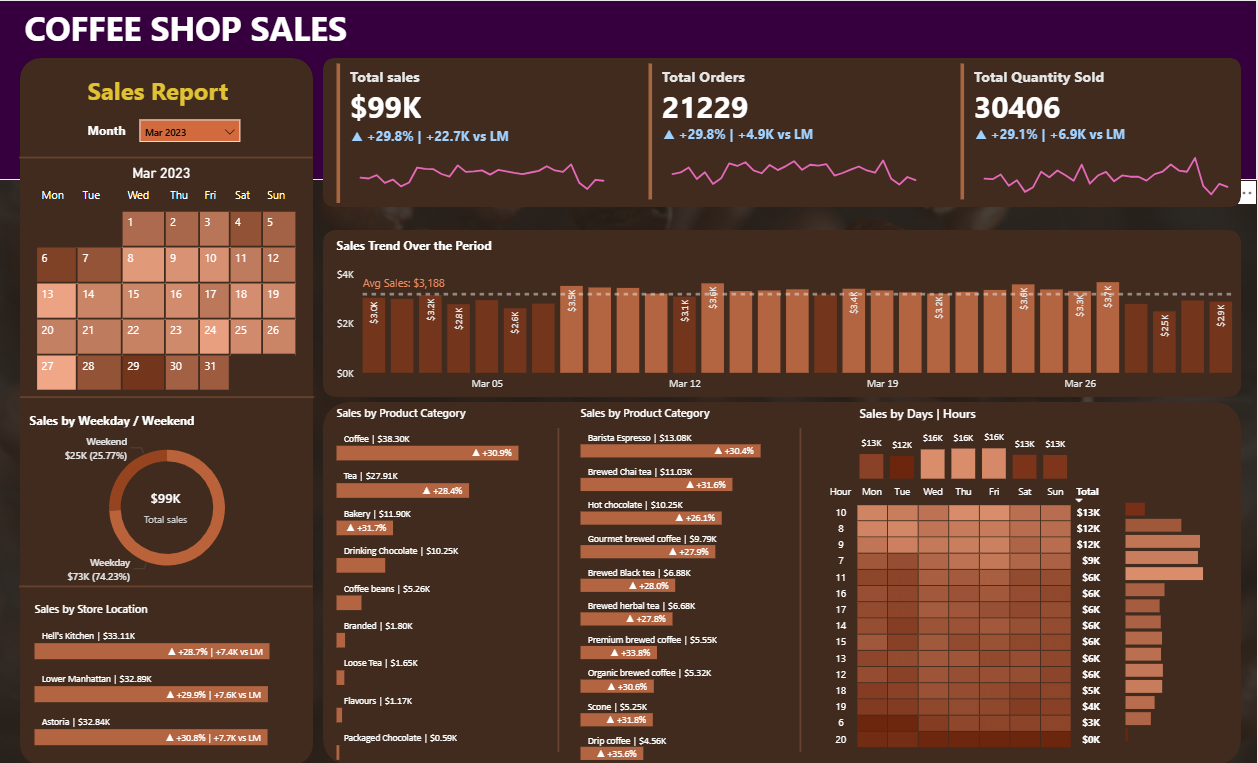

The page's visual inventory and layout, read from the dashboard file:
{"tool":"powerbi","page":{"name":"Page 1","canvas":[1400,850],"ordinal":0},"visuals":[{"type":"shape","box":[362.2,446.7,1020,403.3],"z":0},{"type":"shape","box":[0,0,1400,200],"z":1000},{"type":"shape","box":[25.6,64.4,325.6,785.6],"z":2000},{"type":"shape","box":[362.2,64.4,1020,165.6],"z":3000},{"type":"textbox","box":[25.6,0,383.3,64.4],"z":4000},{"type":"cardVisual","fields":{"Data":["Transactions.Total sales"]},"box":[372.5,65,300,165],"z":4000,"group":"g1"},{"type":"cardVisual","fields":{"Data":["Transactions.Total Orders"]},"box":[718.4,65,300,161.2],"z":4000,"group":"g2"},{"type":"cardVisual","fields":{"Data":["Transactions.Total Quantity Sold"]},"box":[1065,65,300,161.2],"z":4000,"group":"g3"},{"type":"slicer","fields":{"Values":["Date table.Month year"]},"box":[153.1,127.7,121.5,37.7],"z":5000},{"type":"group","id":"g1","title":"Group 1","box":[372.5,65,316.9,165],"z":6000},{"type":"lineChart","fields":{"Category":["Date table.Date.Variation.Date Hierarchy.Year","Date table.Date.Variation.Date Hierarchy.Quarter","Date table.Date.Variation.Date Hierarchy.Month","Date table.Date.Variation.Date Hierarchy.Day"],"Y":["Transactions.Total Orders"]},"box":[735.3,138.3,300,84.3],"z":6000,"group":"g2"},{"type":"lineChart","fields":{"Category":["Date table.Date.Variation.Date Hierarchy.Year","Date table.Date.Variation.Date Hierarchy.Quarter","Date table.Date.Variation.Date Hierarchy.Month","Date table.Date.Variation.Date Hierarchy.Day"],"Y":["Transactions.Total Quantity Sold"]},"box":[1081.9,138.3,300,84.3],"z":6000,"group":"g3"},{"type":"lineChart","fields":{"Category":["Date table.Date.Variation.Date Hierarchy.Year","Date table.Date.Variation.Date Hierarchy.Quarter","Date table.Date.Variation.Date Hierarchy.Month","Date table.Date.Variation.Date Hierarchy.Day"],"Y":["Transactions.Total sales"]},"box":[389.4,140,300,86.2],"z":6000,"group":"g1"},{"type":"group","id":"g2","title":"Group 1","box":[718.4,65,317.5,161.2],"z":7000},{"type":"group","id":"g3","title":"Group 1","box":[1065,65,317.5,161.2],"z":8000},{"type":"pivotTable","fields":{"Rows":["Date table.Week Number"],"Columns":["Date table.Day Name"],"Values":["Min(Date table.Day Number)"]},"box":[35.4,200,303.8,240],"z":9000},{"type":"cardVisual","fields":{"Data":["Min(Date table.Month year)"]},"box":[133.8,157.7,110.8,46.2],"z":10000},{"type":"shape","box":[25.7,425.7,327.1,31.4],"z":11000},{"type":"shape","box":[24.6,158.5,326.2,32.3],"z":12000},{"type":"donutChart","title":"Sales by Weekday / Weekend","fields":{"Category":["Date table.Weekday / Weekend"],"Y":["Transactions.Total sales"]},"box":[31.1,457.8,315.6,195.6],"z":13000},{"type":"card","fields":{"Values":["Transactions.Total sales"]},"box":[133,538,108,50],"z":14000},{"type":"shape","box":[24,636,326,32],"z":15000},{"type":"clusteredBarChart","title":"Sales by Store Location","fields":{"Category":["Transactions.store_location"],"Y":["Transactions.Placeholder","Transactions.Total sales"]},"box":[36.7,667.8,297.8,167.8],"z":16000},{"type":"shape","box":[362.2,255.6,1020,185.6],"z":17000},{"type":"columnChart","title":"Sales Trend Over the Period","fields":{"Category":["Transactions.transaction_date"],"Y":["Transactions.Total sales"]},"box":[372.2,263.3,1011.1,178.9],"z":18000},{"type":"clusteredBarChart","title":"Sales by Product Category","fields":{"Y":["Transactions.Placeholder","Transactions.Total sales"],"Category":["Transactions.product_category"]},"box":[372.5,450,235,400],"z":19000},{"type":"shape","box":[608,476,32,360],"z":20000},{"type":"clusteredBarChart","title":"Sales by Product Category","fields":{"Y":["Transactions.Placeholder","Transactions.Total sales"],"Category":["Transactions.product_type"]},"box":[643,450,235,400],"z":21000},{"type":"shape","box":[877,476,32,360],"z":22000},{"type":"pivotTable","fields":{"Rows":["Transactions.Hour"],"Columns":["Date table.Day Name"],"Values":["Transactions.Total sales"]},"box":[914,533,335,309],"z":23000},{"type":"barChart","fields":{"Category":["Transactions.Hour"],"Y":["Transactions.Total sales"]},"box":[1249,546,113,283],"z":24000},{"type":"columnChart","title":"Sales by Days | Hours","fields":{"Y":["Transactions.Total sales"],"Category":["Date table.Day Name"]},"box":[952.9,450,241.4,87.9],"z":25000},{"type":"textbox","box":[95.4,131.5,72.3,26.9],"z":26000},{"type":"textbox","box":[95.6,76.7,178.9,45.6],"z":27000}]}

Visuals, with their boxes in screenshot pixels (x1, y1, x2, y2), scaled from the page's 1400x850 canvas onto the 1258x763 screenshot:
shape: {"x1": 325, "y1": 401, "x2": 1242, "y2": 762}
shape: {"x1": 0, "y1": 0, "x2": 1257, "y2": 180}
shape: {"x1": 23, "y1": 58, "x2": 316, "y2": 762}
shape: {"x1": 325, "y1": 58, "x2": 1242, "y2": 206}
textbox: {"x1": 23, "y1": 0, "x2": 367, "y2": 58}
cardVisual - Transactions.Total sales: {"x1": 335, "y1": 58, "x2": 604, "y2": 206}
cardVisual - Transactions.Total Orders: {"x1": 646, "y1": 58, "x2": 915, "y2": 203}
cardVisual - Transactions.Total Quantity Sold: {"x1": 957, "y1": 58, "x2": 1227, "y2": 203}
slicer - Date table.Month year: {"x1": 138, "y1": 115, "x2": 247, "y2": 148}
"Group 1" group: {"x1": 335, "y1": 58, "x2": 619, "y2": 206}
lineChart - Date table.Date.Variation.Date Hierarchy.Year x Date table.Date.Variation.Date Hierarchy.Quarter: {"x1": 661, "y1": 124, "x2": 930, "y2": 200}
lineChart - Date table.Date.Variation.Date Hierarchy.Year x Date table.Date.Variation.Date Hierarchy.Quarter: {"x1": 972, "y1": 124, "x2": 1242, "y2": 200}
lineChart - Date table.Date.Variation.Date Hierarchy.Year x Date table.Date.Variation.Date Hierarchy.Quarter: {"x1": 350, "y1": 126, "x2": 619, "y2": 203}
"Group 1" group: {"x1": 646, "y1": 58, "x2": 931, "y2": 203}
"Group 1" group: {"x1": 957, "y1": 58, "x2": 1242, "y2": 203}
pivotTable - Date table.Week Number x Date table.Day Name: {"x1": 32, "y1": 180, "x2": 305, "y2": 395}
cardVisual - Min(Date table.Month year): {"x1": 120, "y1": 142, "x2": 220, "y2": 183}
shape: {"x1": 23, "y1": 382, "x2": 317, "y2": 410}
shape: {"x1": 22, "y1": 142, "x2": 315, "y2": 171}
"Sales by Weekday / Weekend" donutChart: {"x1": 28, "y1": 411, "x2": 312, "y2": 587}
card - Transactions.Total sales: {"x1": 120, "y1": 483, "x2": 217, "y2": 528}
shape: {"x1": 22, "y1": 571, "x2": 314, "y2": 600}
"Sales by Store Location" clusteredBarChart: {"x1": 33, "y1": 599, "x2": 301, "y2": 750}
shape: {"x1": 325, "y1": 229, "x2": 1242, "y2": 396}
"Sales Trend Over the Period" columnChart: {"x1": 334, "y1": 236, "x2": 1243, "y2": 397}
"Sales by Product Category" clusteredBarChart: {"x1": 335, "y1": 404, "x2": 546, "y2": 762}
shape: {"x1": 546, "y1": 427, "x2": 575, "y2": 750}
"Sales by Product Category" clusteredBarChart: {"x1": 578, "y1": 404, "x2": 789, "y2": 762}
shape: {"x1": 788, "y1": 427, "x2": 817, "y2": 750}
pivotTable - Transactions.Hour x Date table.Day Name: {"x1": 821, "y1": 478, "x2": 1122, "y2": 756}
barChart - Transactions.Hour x Transactions.Total sales: {"x1": 1122, "y1": 490, "x2": 1224, "y2": 744}
"Sales by Days | Hours" columnChart: {"x1": 856, "y1": 404, "x2": 1073, "y2": 483}
textbox: {"x1": 86, "y1": 118, "x2": 151, "y2": 142}
textbox: {"x1": 86, "y1": 69, "x2": 247, "y2": 110}
